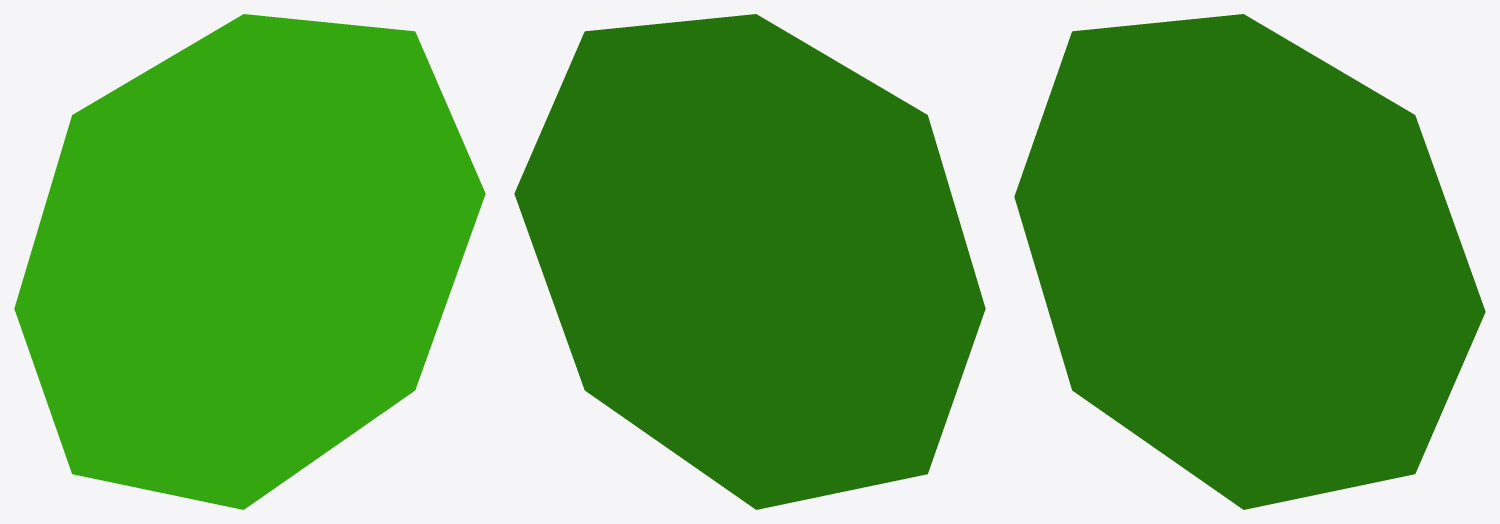
Rendered from IslandMoon_BuildArea_5.fbx.
3 views of the same model, side by side, from view 1: azimuth 30°, elevation 25°; view 2: azimuth 150°, elevation 25°; view 3: azimuth 330°, elevation 25° (orthographic).
Visible parts, largest first — view 1: IslandMoon_BuildArea_5; view 2: IslandMoon_BuildArea_5; view 3: IslandMoon_BuildArea_5.
Part boxes in pixels (bbox=[...]): IslandMoon_BuildArea_5: bbox=[14, 14, 485, 509]; IslandMoon_BuildArea_5: bbox=[514, 14, 985, 509]; IslandMoon_BuildArea_5: bbox=[1014, 14, 1485, 509].
Bounding box in the file's own units: 16.48 × 9.54e-07 × 16.57.
